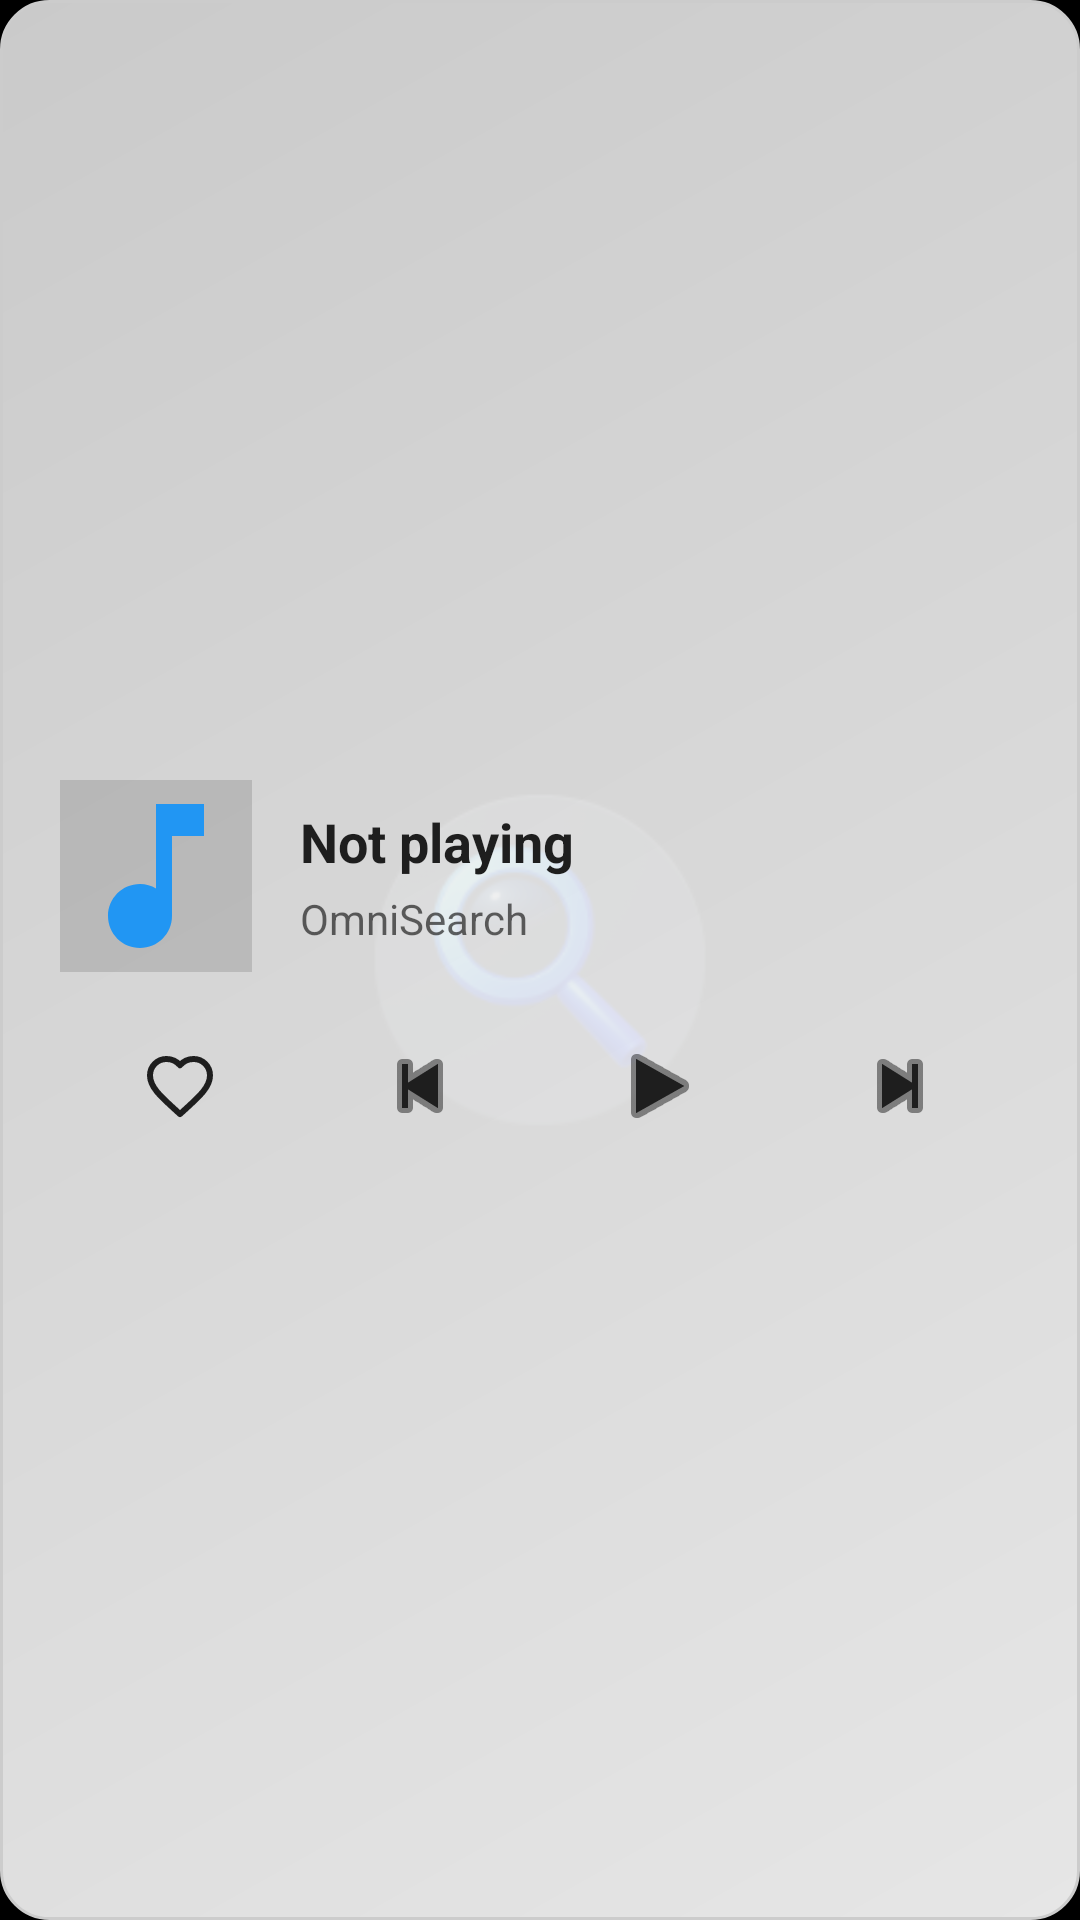

Named icons in this screenshot (1080px x 1920px) and their centers, (x,y):
next: (900,1086)
notification favorite border: (180,1086)
play: (660,1086)
previous: (420,1086)
widget music: (156,876)
